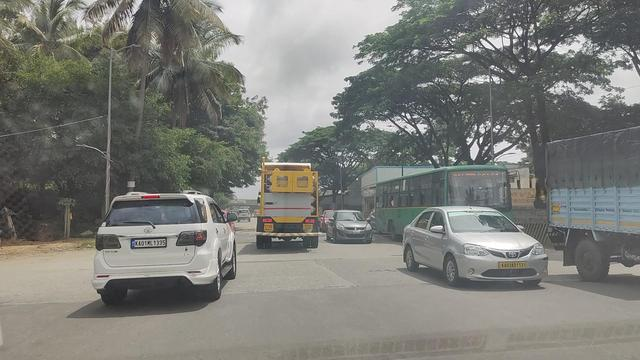HMV: (258, 164, 318, 243)
LMV: (92, 195, 229, 295)
RoadDamages: (243, 279, 363, 299), (1, 290, 95, 308), (317, 255, 339, 281)
